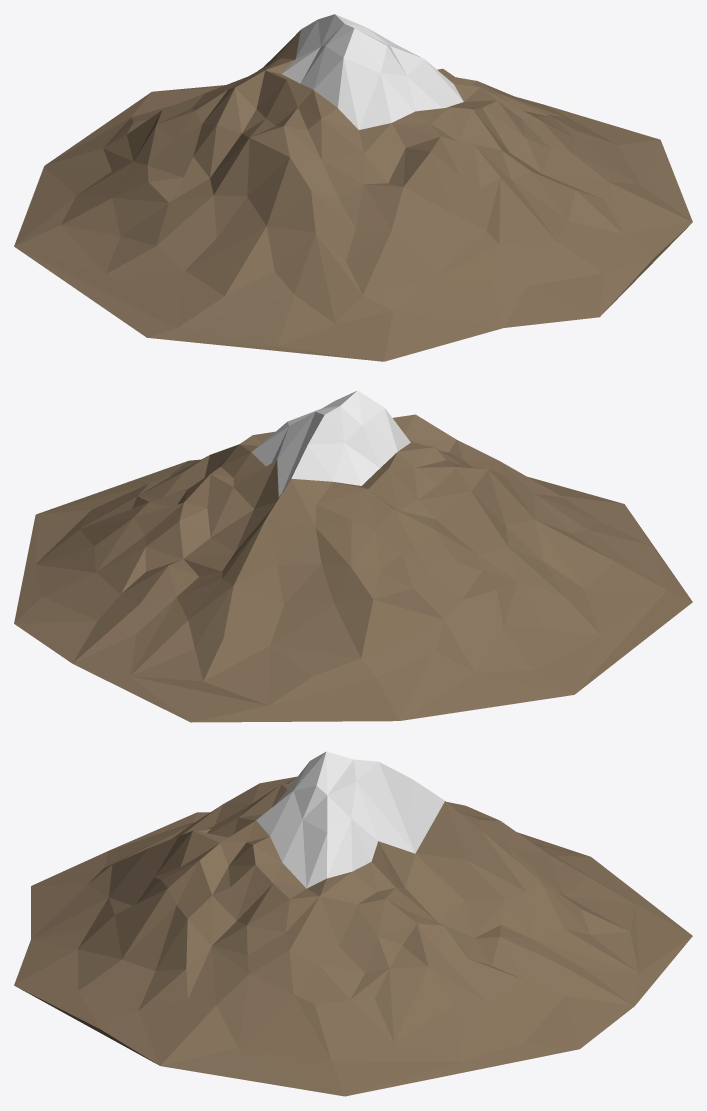
Rendered from Mountain02.fbx.
3 renders of one model, top to bottom at view 1: azimuth 30°, elevation 25°; view 2: azimuth 150°, elevation 25°; view 3: azimuth 270°, elevation 25°, orthographic.
Visible parts, largest first — view 1: Mountain02; view 2: Mountain02; view 3: Mountain02.
Boxes of the visible parts, x1,y1,x2,y2 form: Mountain02: (14, 14, 692, 361); Mountain02: (14, 390, 692, 722); Mountain02: (14, 751, 692, 1096).
Bounding box in the file's own units: 1.92 × 0.6033 × 1.92.
